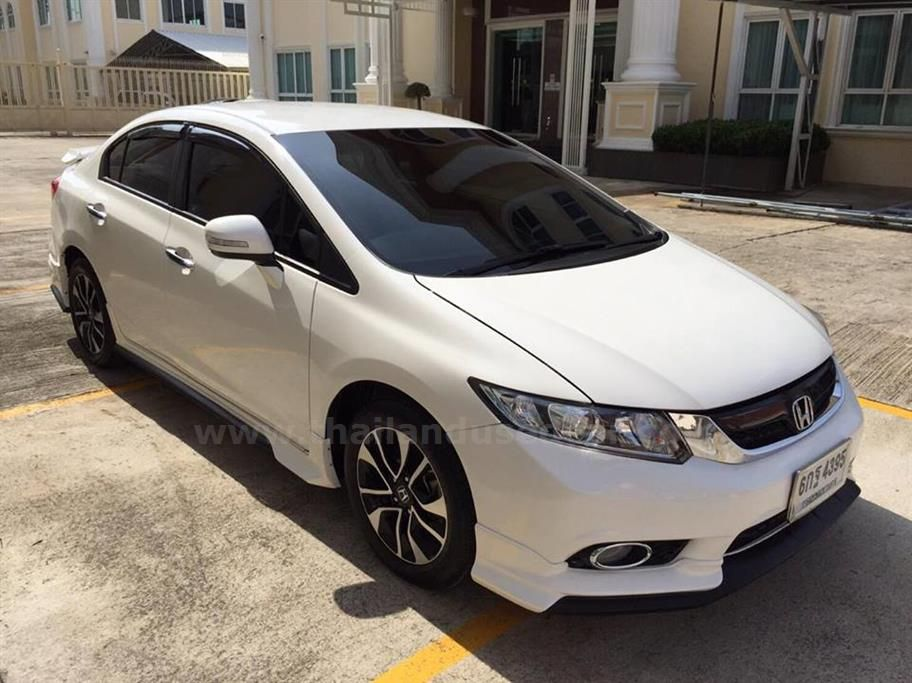sedan: (41, 95, 866, 621)
